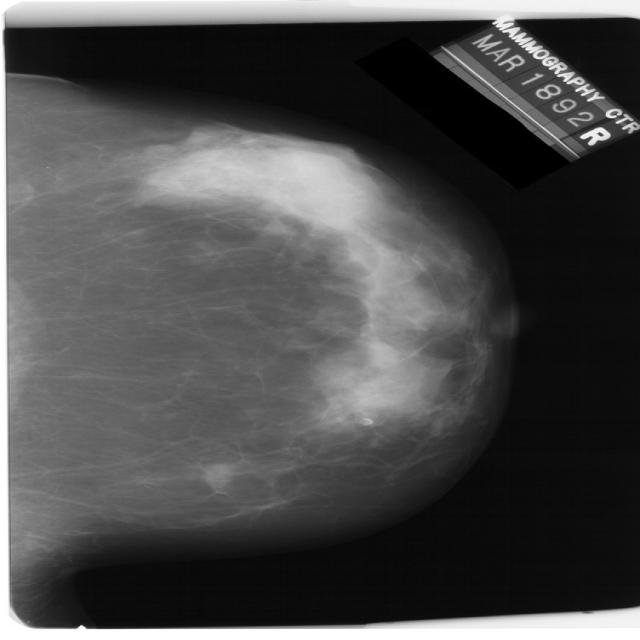tumour: (200, 461, 234, 488)
